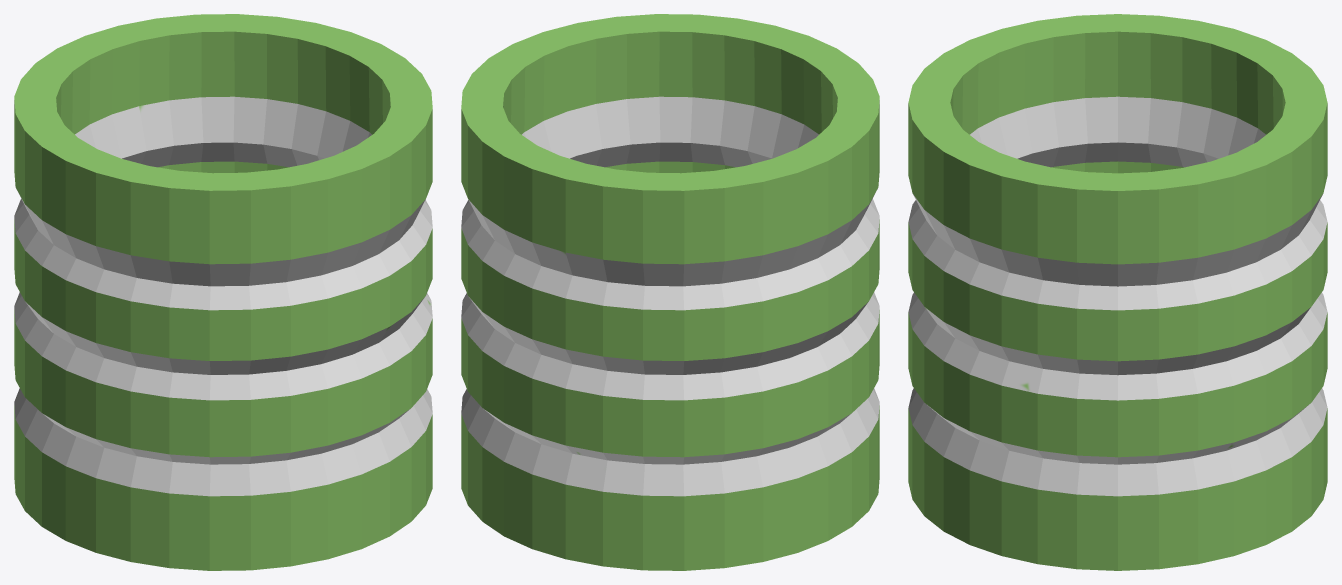
File: ToothbrushHolder.fbx
3 views of the same model, side by side, from view 1: azimuth 30°, elevation 25°; view 2: azimuth 150°, elevation 25°; view 3: azimuth 270°, elevation 25° (orthographic).
Parts seen in each view (by area): view 1: ToothbrushHolder; view 2: ToothbrushHolder; view 3: ToothbrushHolder.
Part boxes in pixels (left/top/right/bottom): ToothbrushHolder: left=14, top=14, right=432, bottom=570; ToothbrushHolder: left=461, top=14, right=879, bottom=570; ToothbrushHolder: left=908, top=14, right=1327, bottom=570.
Size of the model in its own units: 12.48 by 12.48 by 12.48.
Materials: 1 (1 with a texture image).
